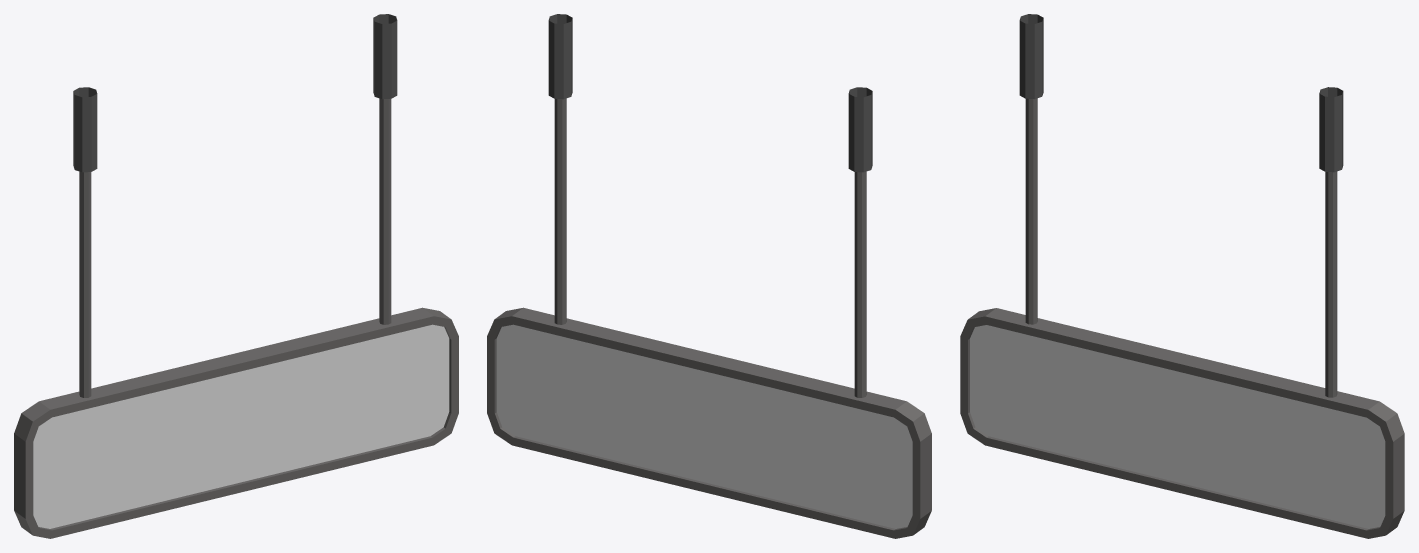
File: InfoSt.fbx
3 views of the same model, side by side, from view 1: azimuth 30°, elevation 25°; view 2: azimuth 150°, elevation 25°; view 3: azimuth 330°, elevation 25° (orthographic).
Visible parts, largest first — view 1: InfoSt; view 2: InfoSt; view 3: InfoSt.
Boxes of the visible parts, x1,y1,x2,y2 form: InfoSt: (14,14,458,538); InfoSt: (487,14,931,538); InfoSt: (960,14,1404,538).
Size of the model in its own units: 2.6 by 2.48 by 0.1288.
